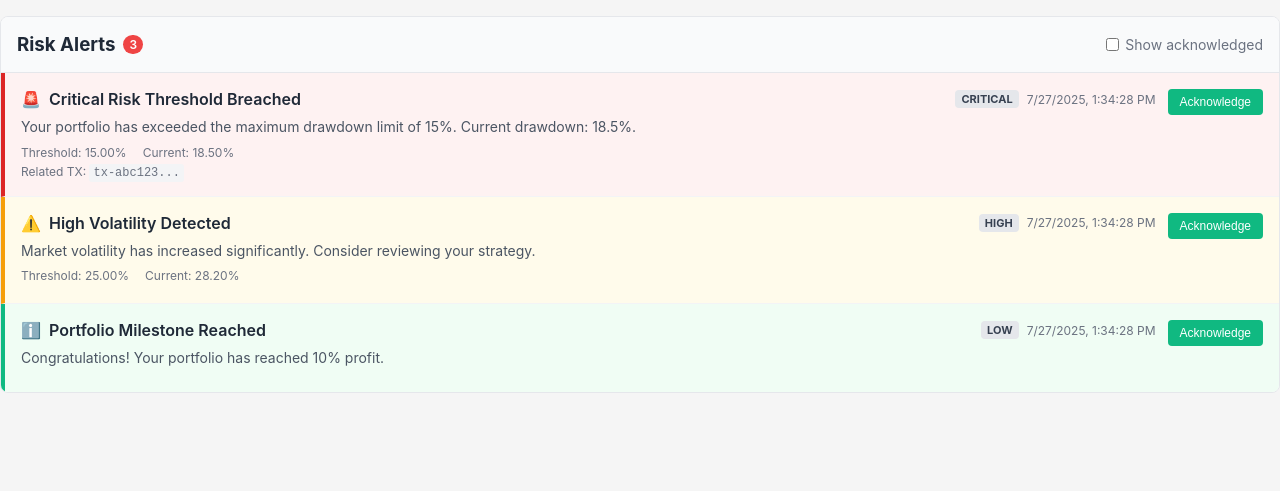
Scenario: AlertPanel › does not show acknowledge button for already acknowledged alerts
The width and height of the screenshot is (1280, 491).
Click the checkbox labelled "Show acknowledged" at [1113, 44], box [1106,38,1119,51]
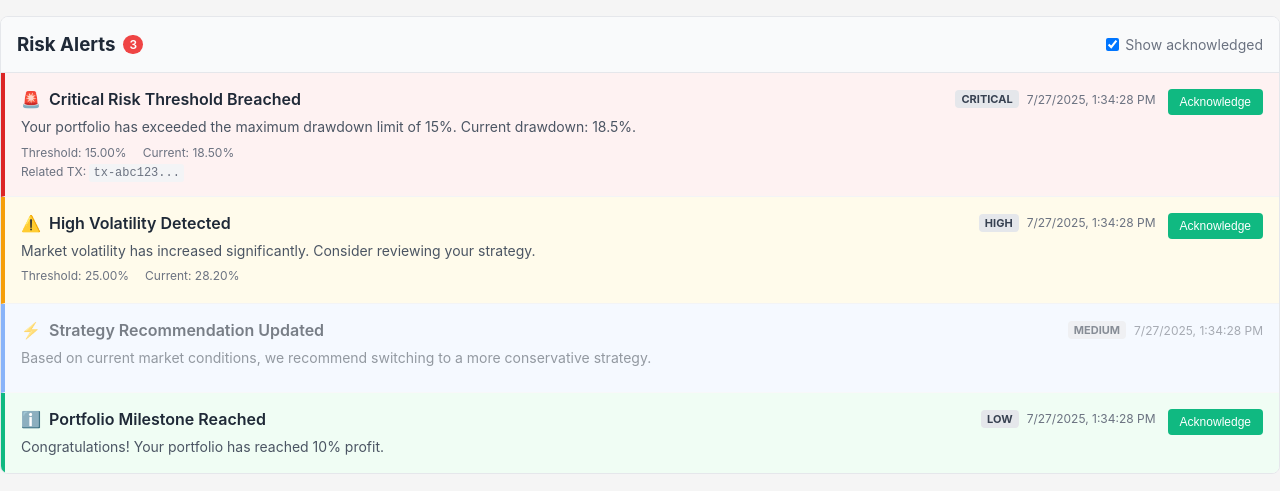
Expected: the number of buttons "Acknowledge" is 3, [1168,89,1263,115]; [1168,213,1263,239]; [1168,409,1263,435]
Result: the text "Strategy Recommendation Updated" is shown at [49,320,324,340]
